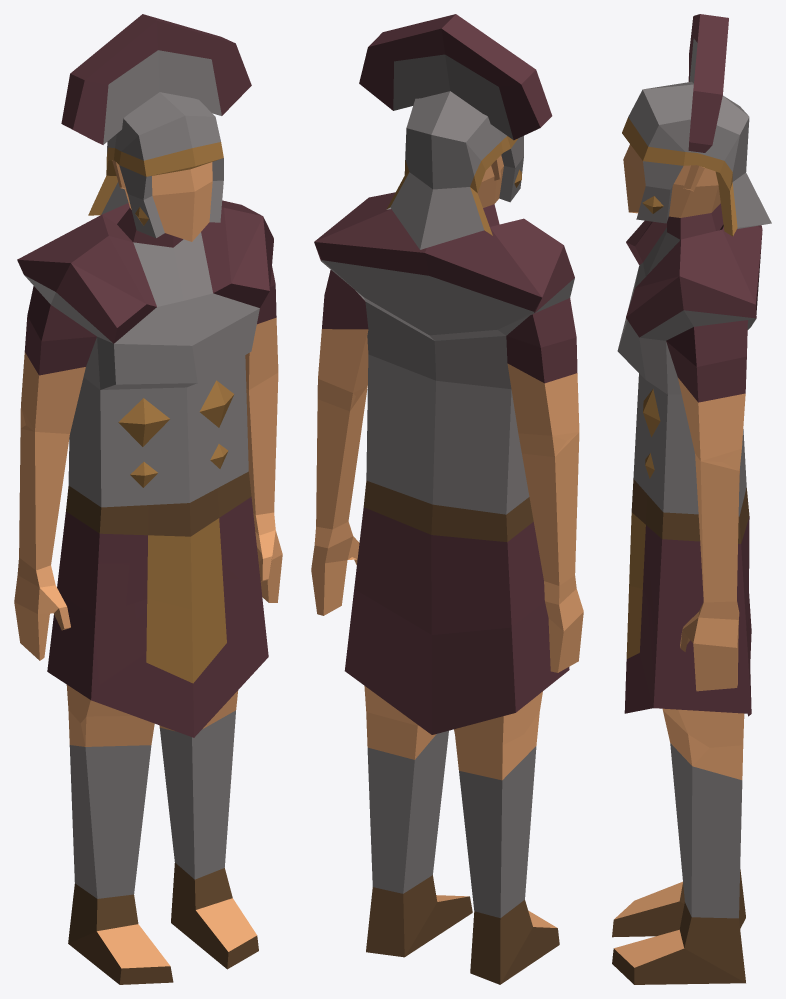
Rendered from SM_Man_Soldier_Leader_Roman_Empire.fbx.
3 views of the same model, side by side, from view 1: azimuth 30°, elevation 25°; view 2: azimuth 150°, elevation 25°; view 3: azimuth 270°, elevation 25° (orthographic).
Visible parts, largest first — view 1: SM_Man_Soldier_Leader_Roman_Empire; view 2: SM_Man_Soldier_Leader_Roman_Empire; view 3: SM_Man_Soldier_Leader_Roman_Empire.
Part boxes in pixels (x1,y1,x2,y2): SM_Man_Soldier_Leader_Roman_Empire: (14, 14, 282, 984); SM_Man_Soldier_Leader_Roman_Empire: (311, 14, 583, 984); SM_Man_Soldier_Leader_Roman_Empire: (612, 14, 771, 984).
Size of the model in its own units: 0.5554 by 1.97 by 0.305.
